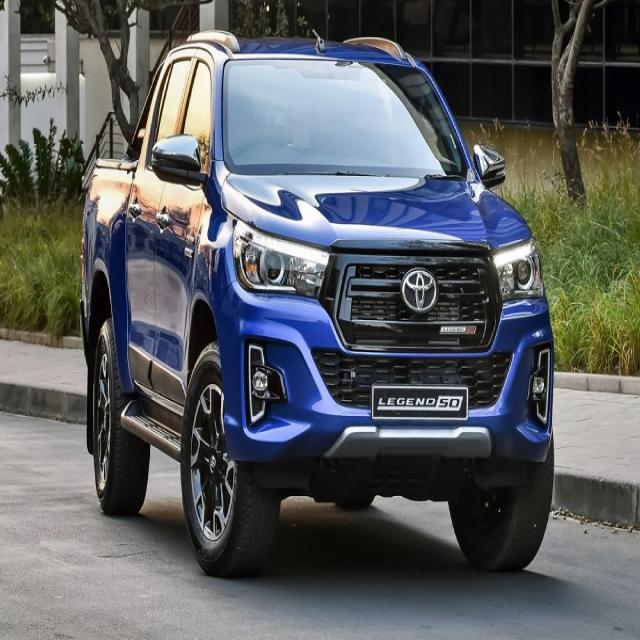Pickup Trucks: (78, 29, 559, 579)
